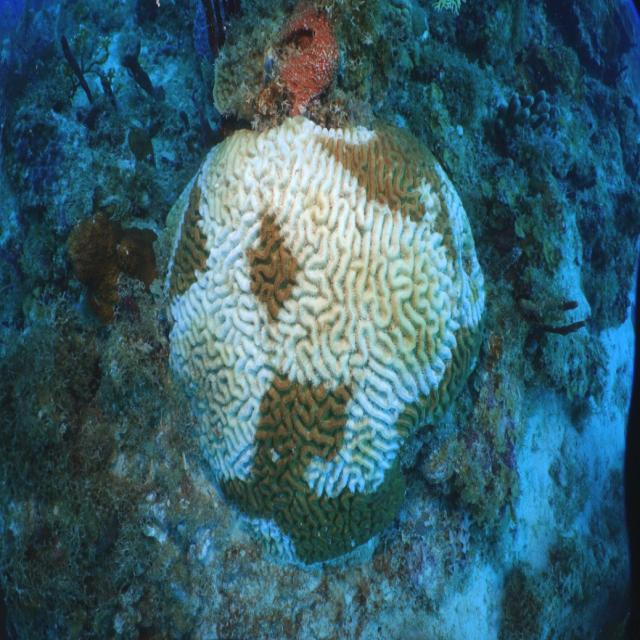Coral: (151, 112, 485, 565)
